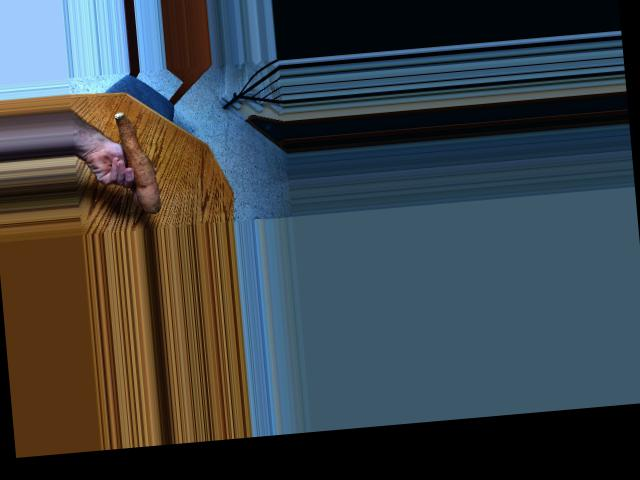sweet_potato: (109, 107, 164, 213)
